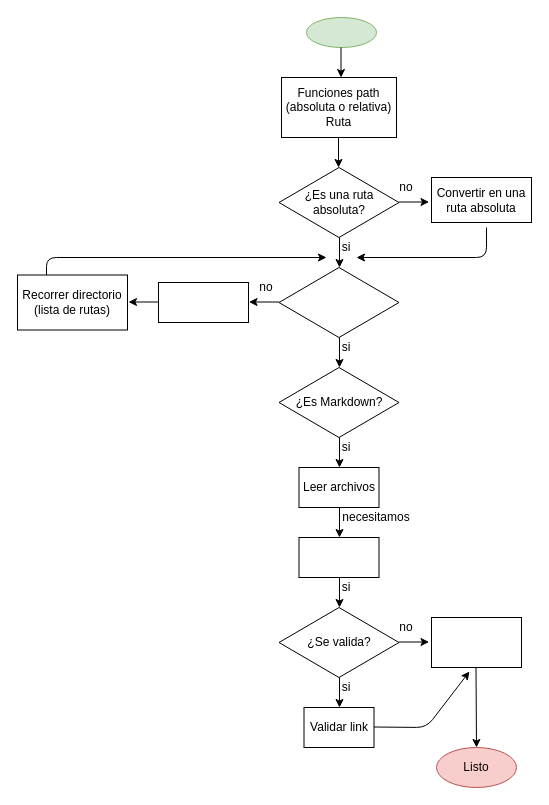
Some shapes in this 549 by 805 pixel diagram are drawn without their labels. Here are the shapes that lost their labels. From the top down, the centre of each, then its label:
At point 341,32: "Inicio".
At point 203,302: "Lógica para leer directorio".
At point 338,302: "¿La ruta es un archivo?".
At point 338,557: "Extraer links".
At point 476,642: "Extraer lo solicitado".
